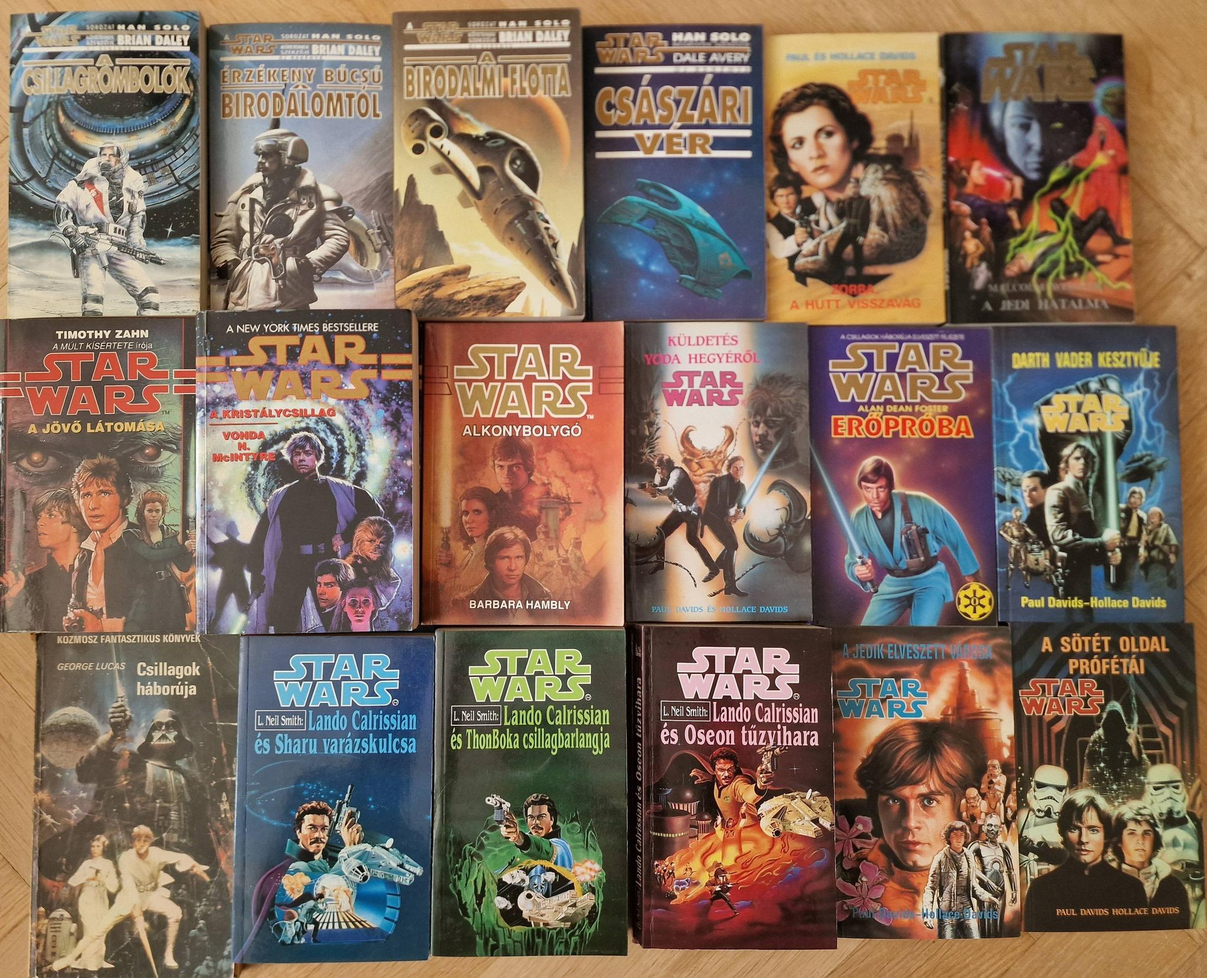comic: (28, 629, 241, 978), (196, 310, 417, 634), (232, 632, 434, 968), (631, 625, 836, 949), (432, 627, 631, 958), (1011, 618, 1207, 934), (0, 318, 195, 633), (8, 9, 206, 319), (422, 322, 624, 625), (391, 9, 585, 322), (832, 625, 1022, 940), (623, 321, 812, 623), (994, 325, 1184, 623), (810, 325, 996, 627), (943, 32, 1133, 323), (583, 24, 766, 322), (207, 23, 393, 312), (762, 32, 945, 325)
